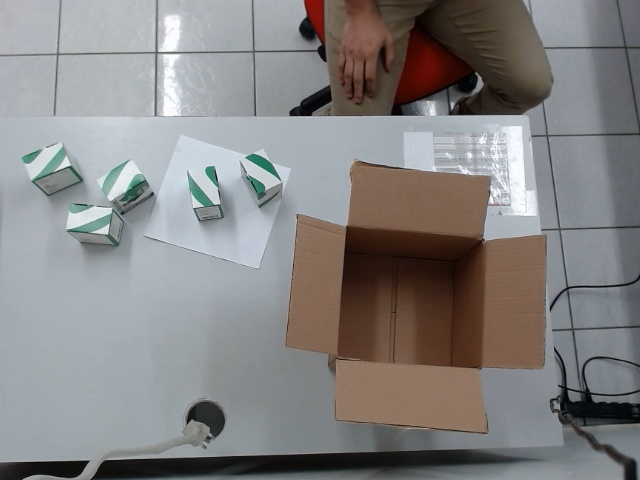divisor: (140, 130, 292, 271)
item: (20, 140, 84, 198), (96, 157, 155, 216), (238, 148, 284, 210), (64, 201, 125, 247), (185, 164, 226, 224)
